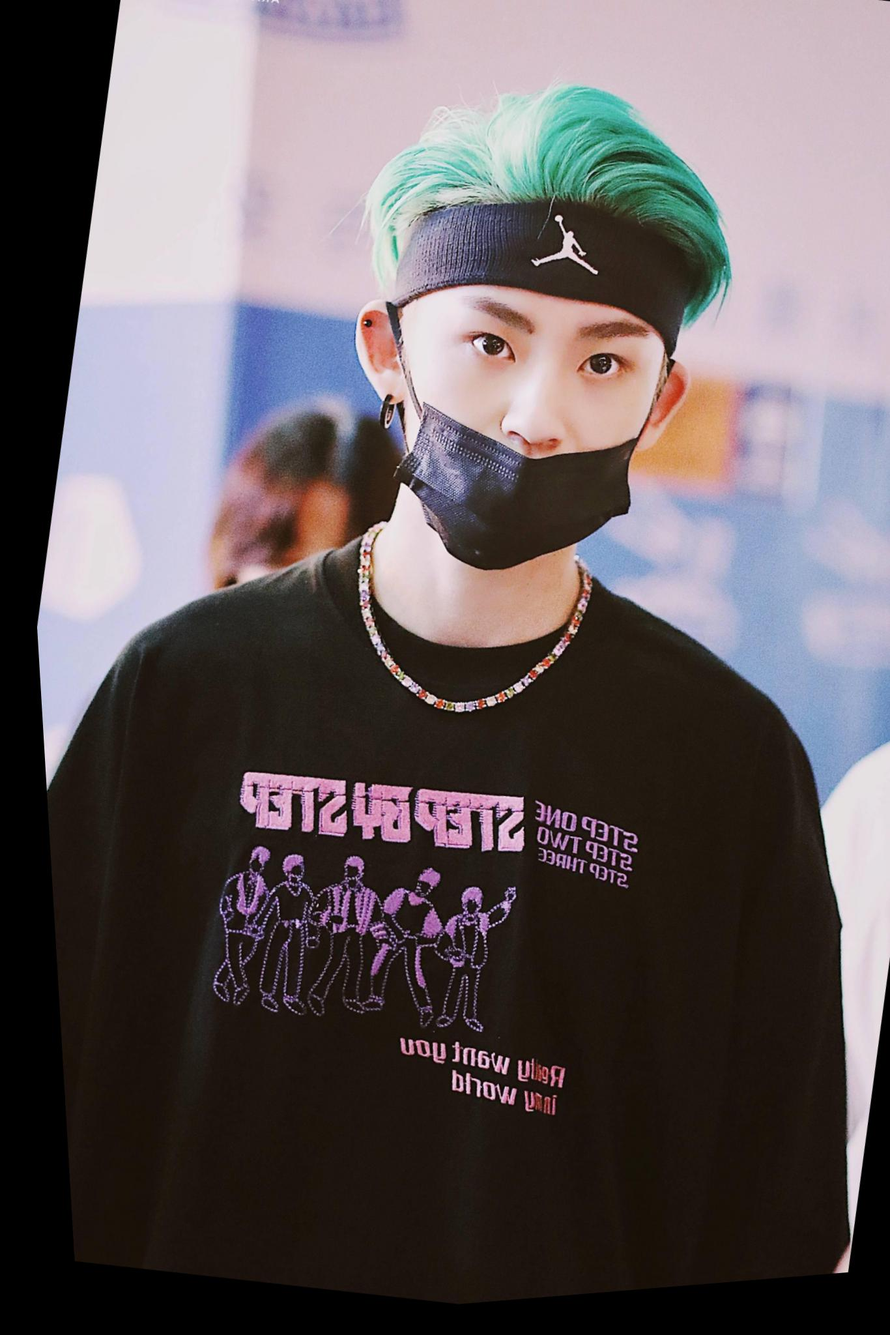WRONG: (361, 253, 688, 607)
